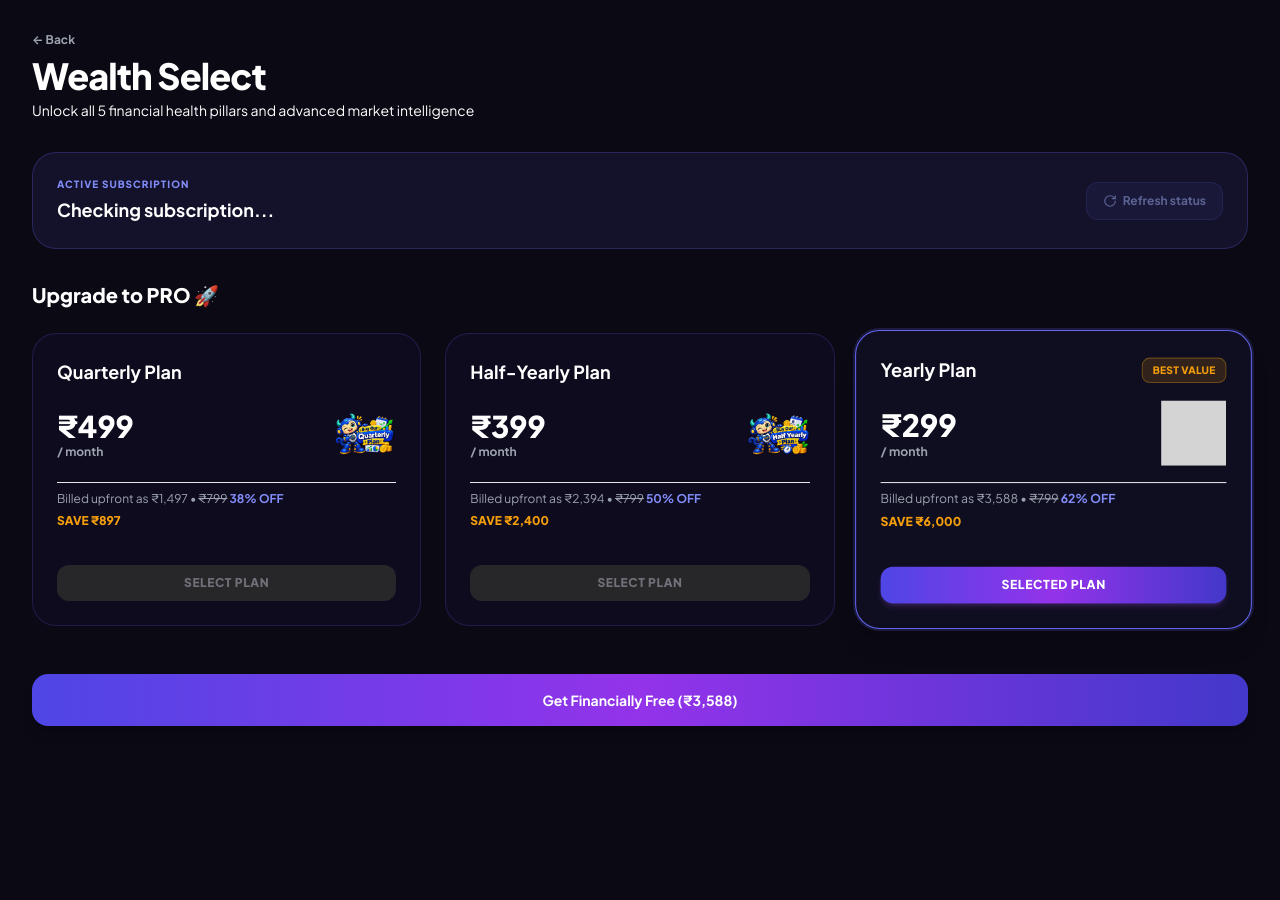
Test: Subscription Purchase & Realtime Sync Tests › 2. Shows "Online payments are not available right now." and does not grant PRO when VITE_RAZORPAY_KEY_ID is missing or edge function is unreachable
Click the button with test id "buy-plan-btn". click: x=640, y=700
box: 32,674 -> 1248,726
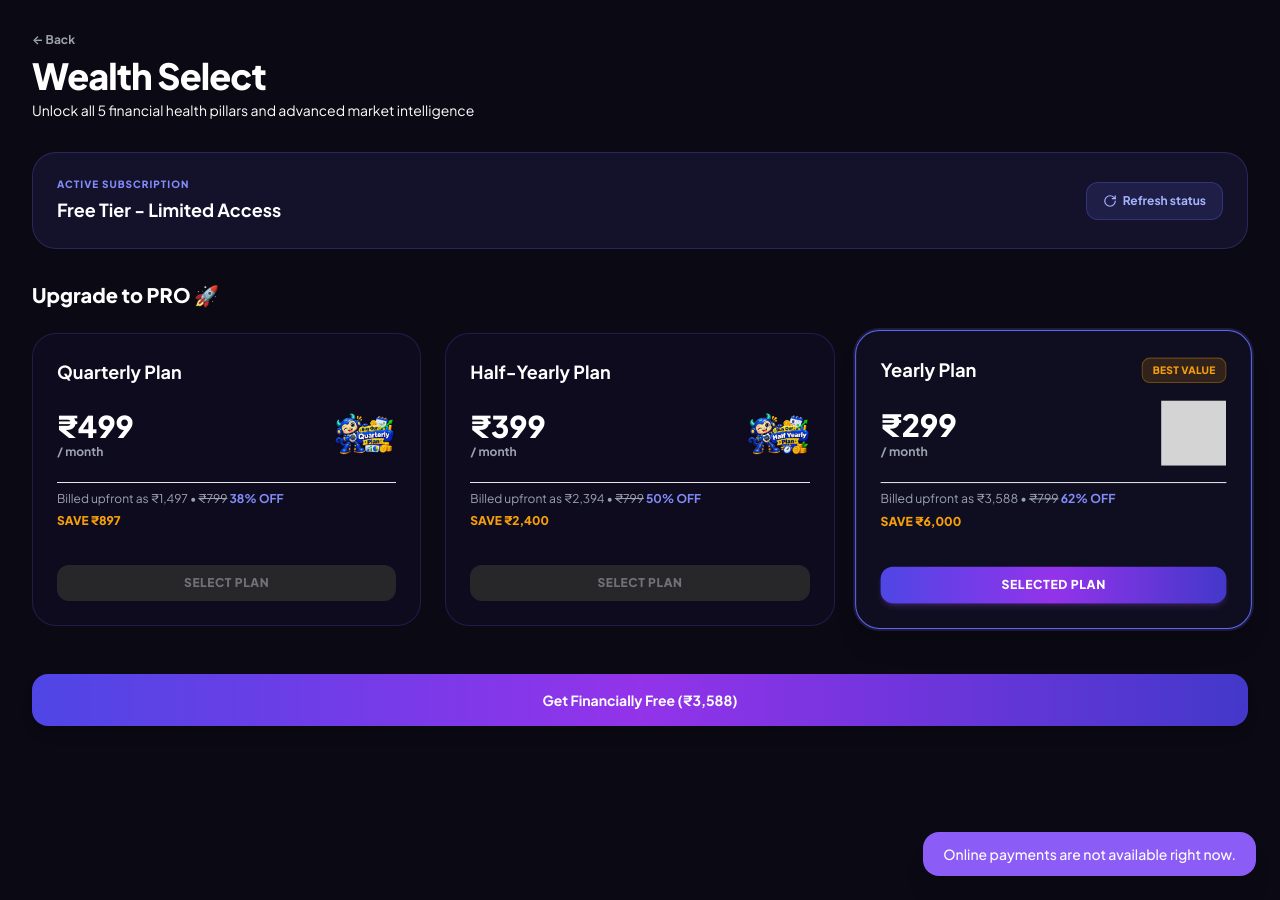
Result: the text "Online payments are not available right now." is shown at 943,844 -> 1236,864
